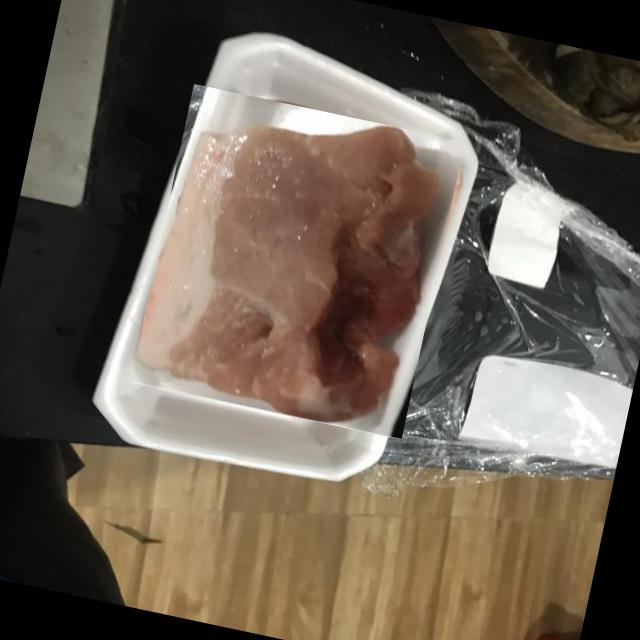chicken: (130, 83, 465, 440)
